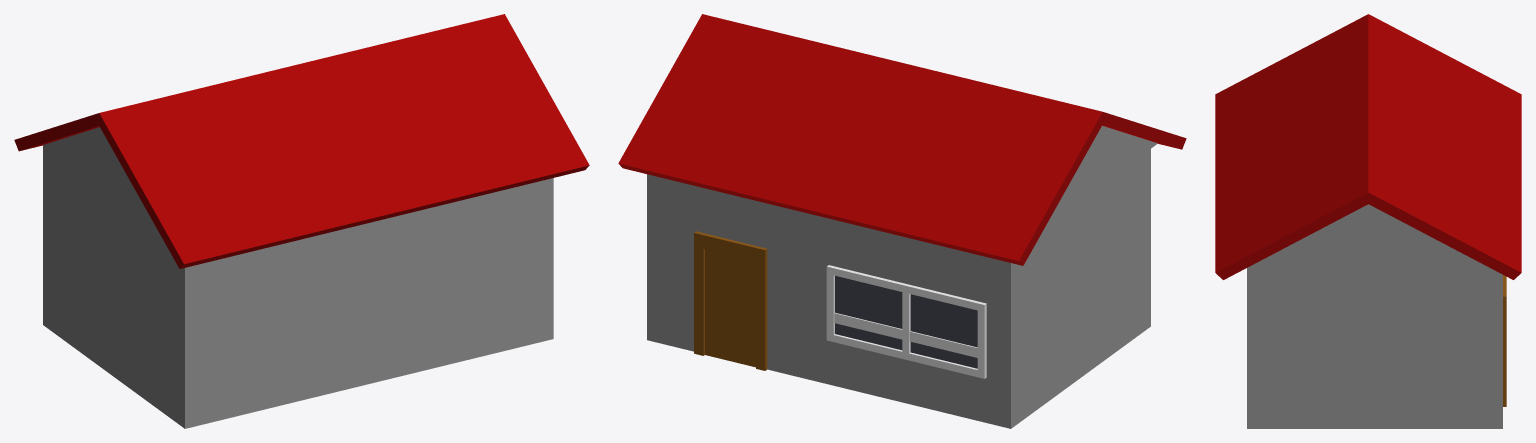
Rendered from house 7.model.fbx.
3 renders of one model, left to right at view 1: azimuth 30°, elevation 25°; view 2: azimuth 150°, elevation 25°; view 3: azimuth 270°, elevation 25°, orthographic. The views are drawn at different scales.
Visible parts, largest first — view 1: block_46, roof_44; view 2: roof_44, block_46, window_width_47, door_low_38; view 3: roof_44, block_46, door_low_38.
Boxes of the visible parts, x1,y1,x2,y2 form: block_46: (43,145,553,428); roof_44: (14,14,589,268); roof_44: (618,14,1186,265); block_46: (647,149,1150,428); window_width_47: (826,265,986,378); door_low_38: (694,231,767,370); roof_44: (1215,14,1521,279); block_46: (1247,266,1502,428); door_low_38: (1503,275,1506,406).
Size of the model in its own units: 33 by 21.08 by 23.94.
